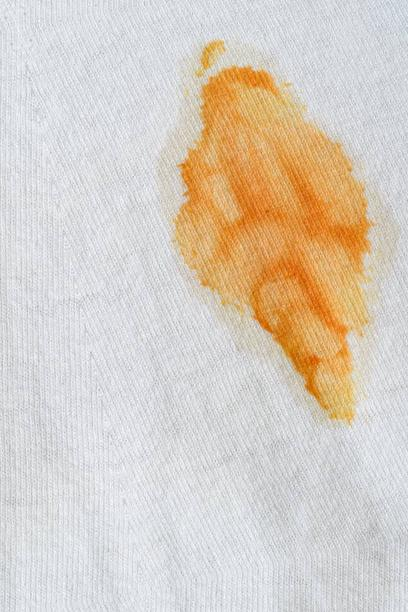stain: (168, 30, 385, 438)
